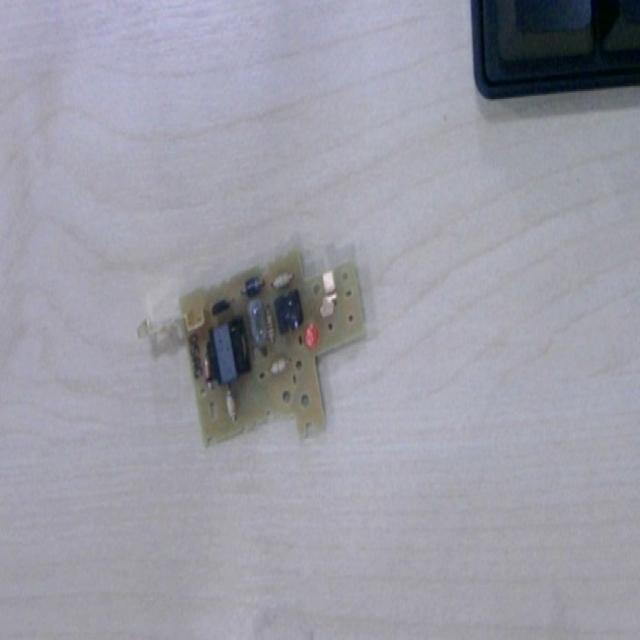019: (274, 291, 304, 336)
223: (247, 297, 267, 347)
DIODE: (240, 277, 266, 297)
R1: (268, 356, 289, 376)
R2: (265, 304, 276, 346)
R3: (273, 271, 294, 288)
R4: (224, 388, 239, 424)
TCE: (208, 316, 250, 384)
TRANSISTOR: (211, 298, 232, 315)
